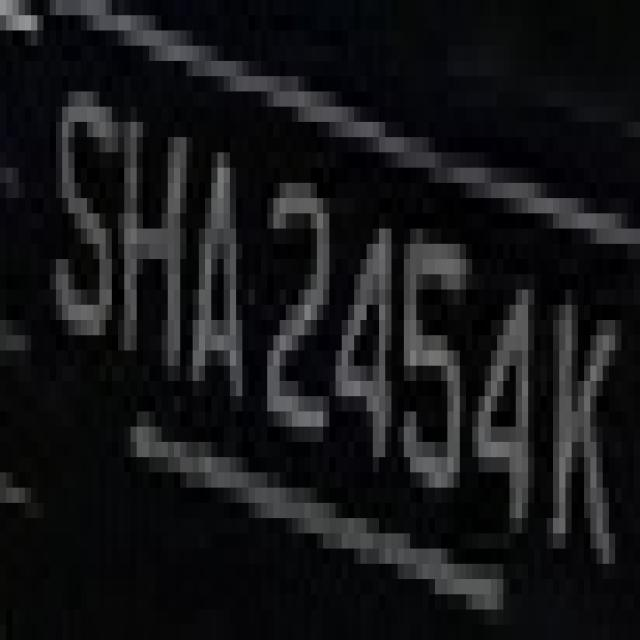2: (242, 137, 336, 503)
4: (317, 168, 410, 502), (472, 244, 553, 548)
5: (392, 198, 478, 549)
A: (174, 122, 267, 503)
H: (106, 122, 186, 381)
K: (540, 274, 628, 579)
S: (37, 46, 118, 381)
